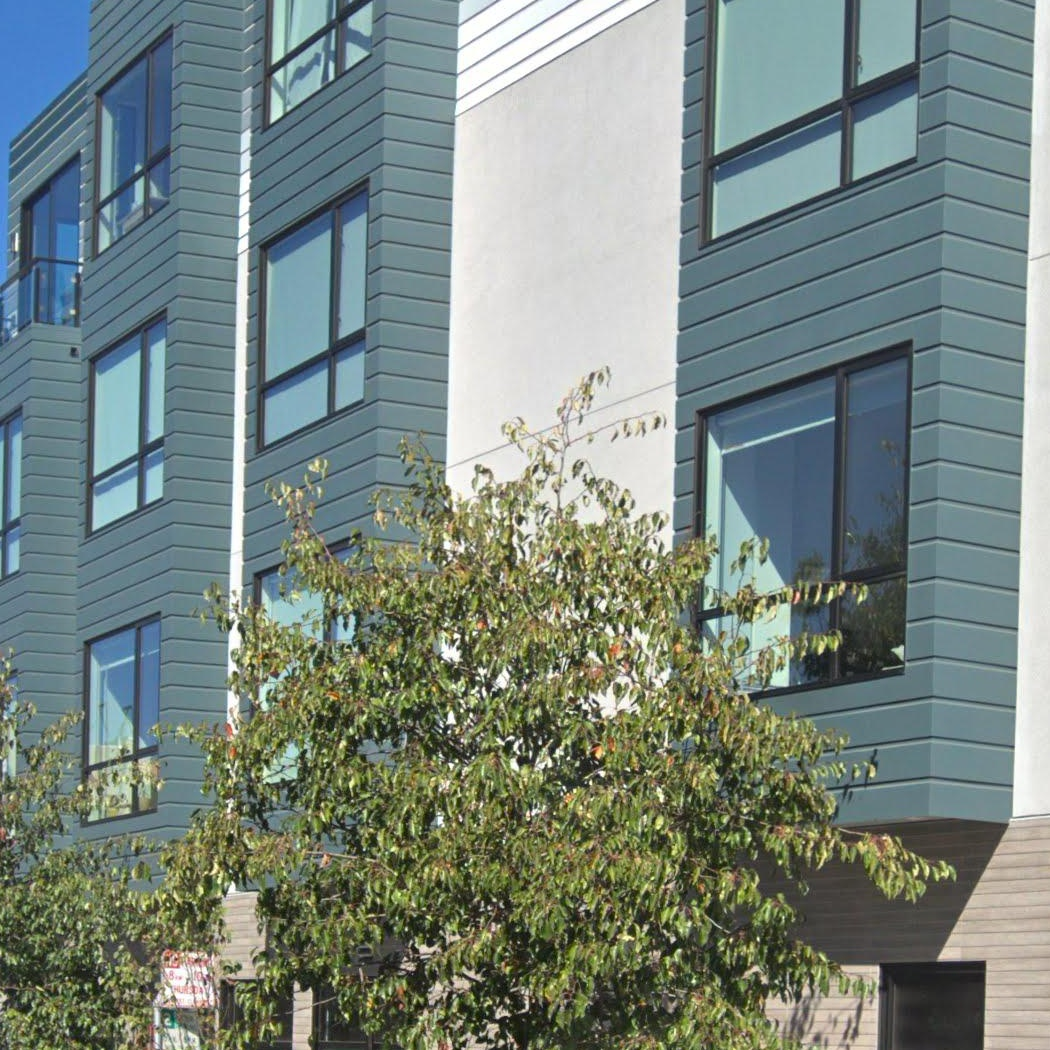2 Hour Parking: (160, 1010, 201, 1049)
No Parking: (158, 948, 217, 1010)
